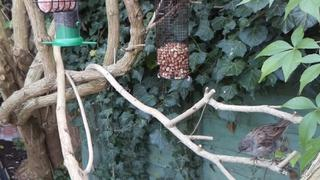dunnock: (236, 118, 291, 167)
